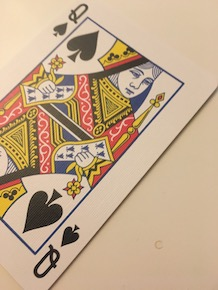QueenOfSpades: (1, 2, 217, 289)
